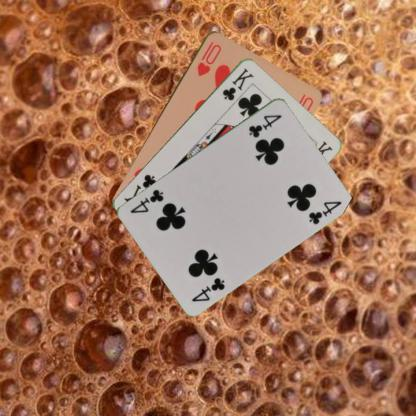10h: (194, 38, 223, 78)
4c: (189, 274, 226, 303), (246, 112, 284, 139)
Kc: (220, 65, 256, 102)
